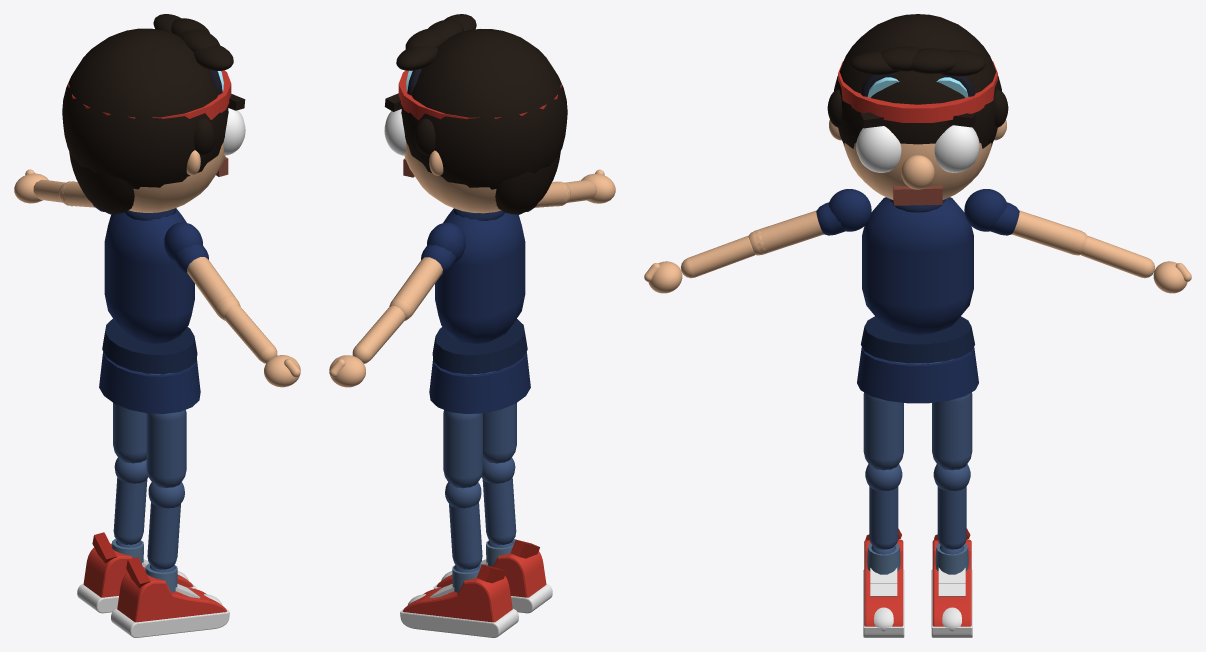
File: jmp1.glb
3 views of the same model, side by side, from view 1: azimuth 30°, elevation 25°; view 2: azimuth 150°, elevation 25°; view 3: azimuth 270°, elevation 25° (orthographic).
Size of the model in its own units: 0.431 by 1.49 by 1.25.
